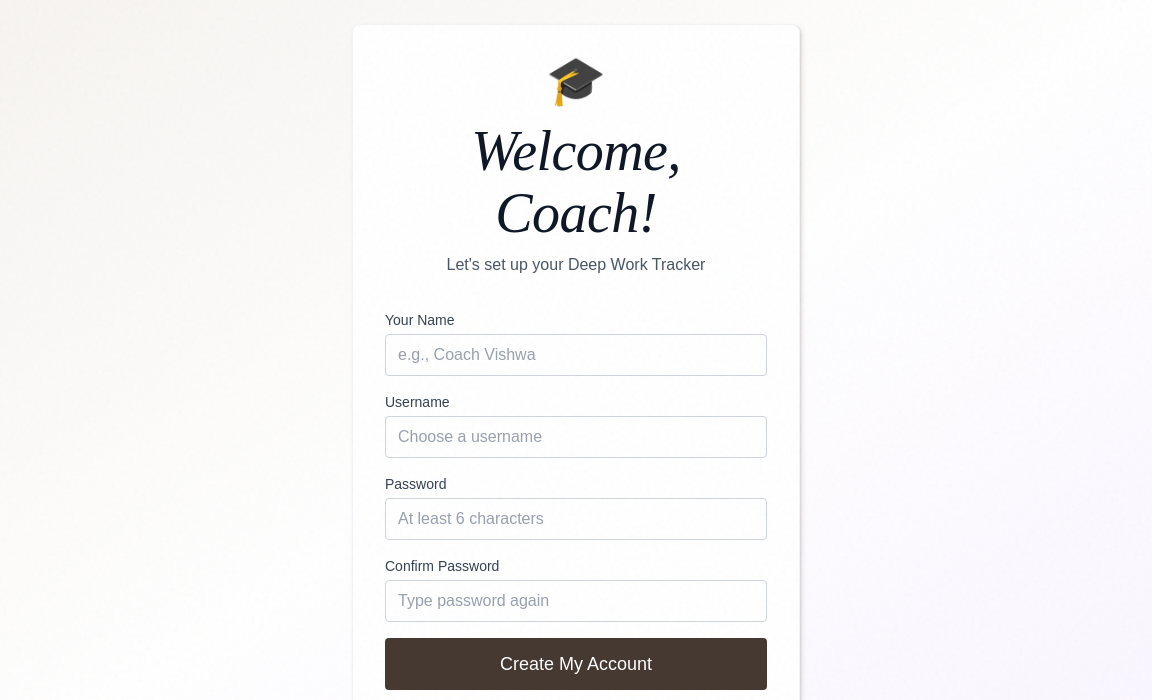
Integration Tests: User Journeys › Journey 1: First-run Bootstrap › SetupPage handles validation errors correctly
The image size is (1152, 700).
# Try to submit without filling form
Click the button "Create My Account": (576, 664) x1=385 y1=638 x2=767 y2=690
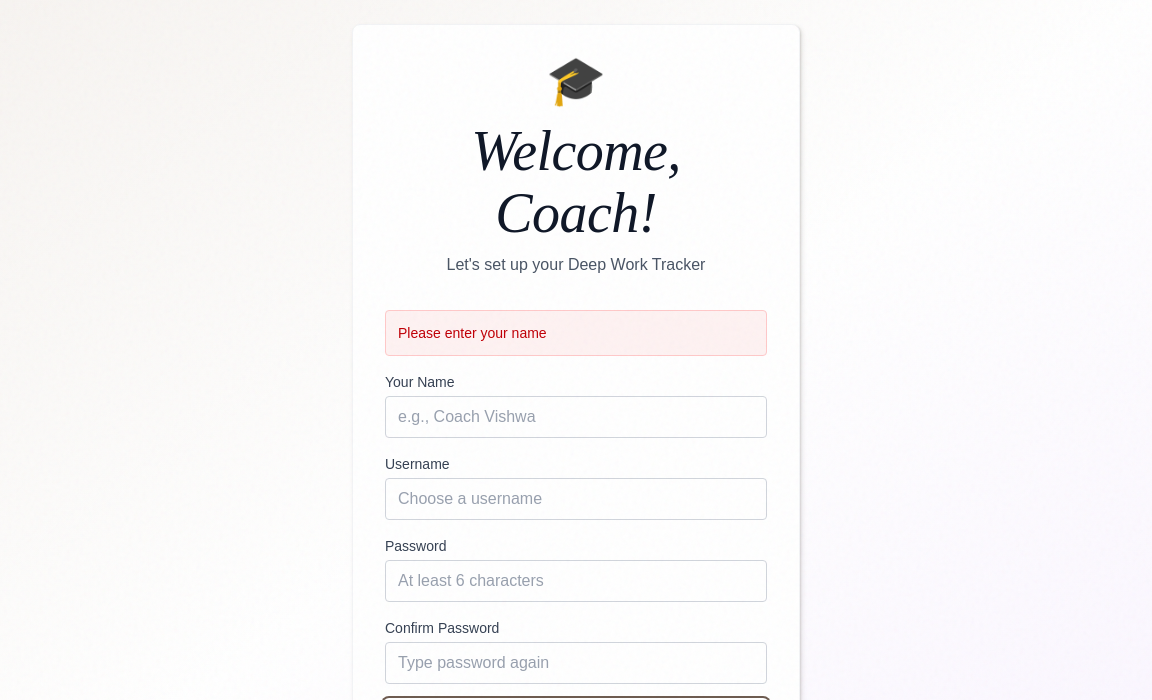
Expected: the text "Please enter your name" is shown, x1=385 y1=310 x2=767 y2=356
